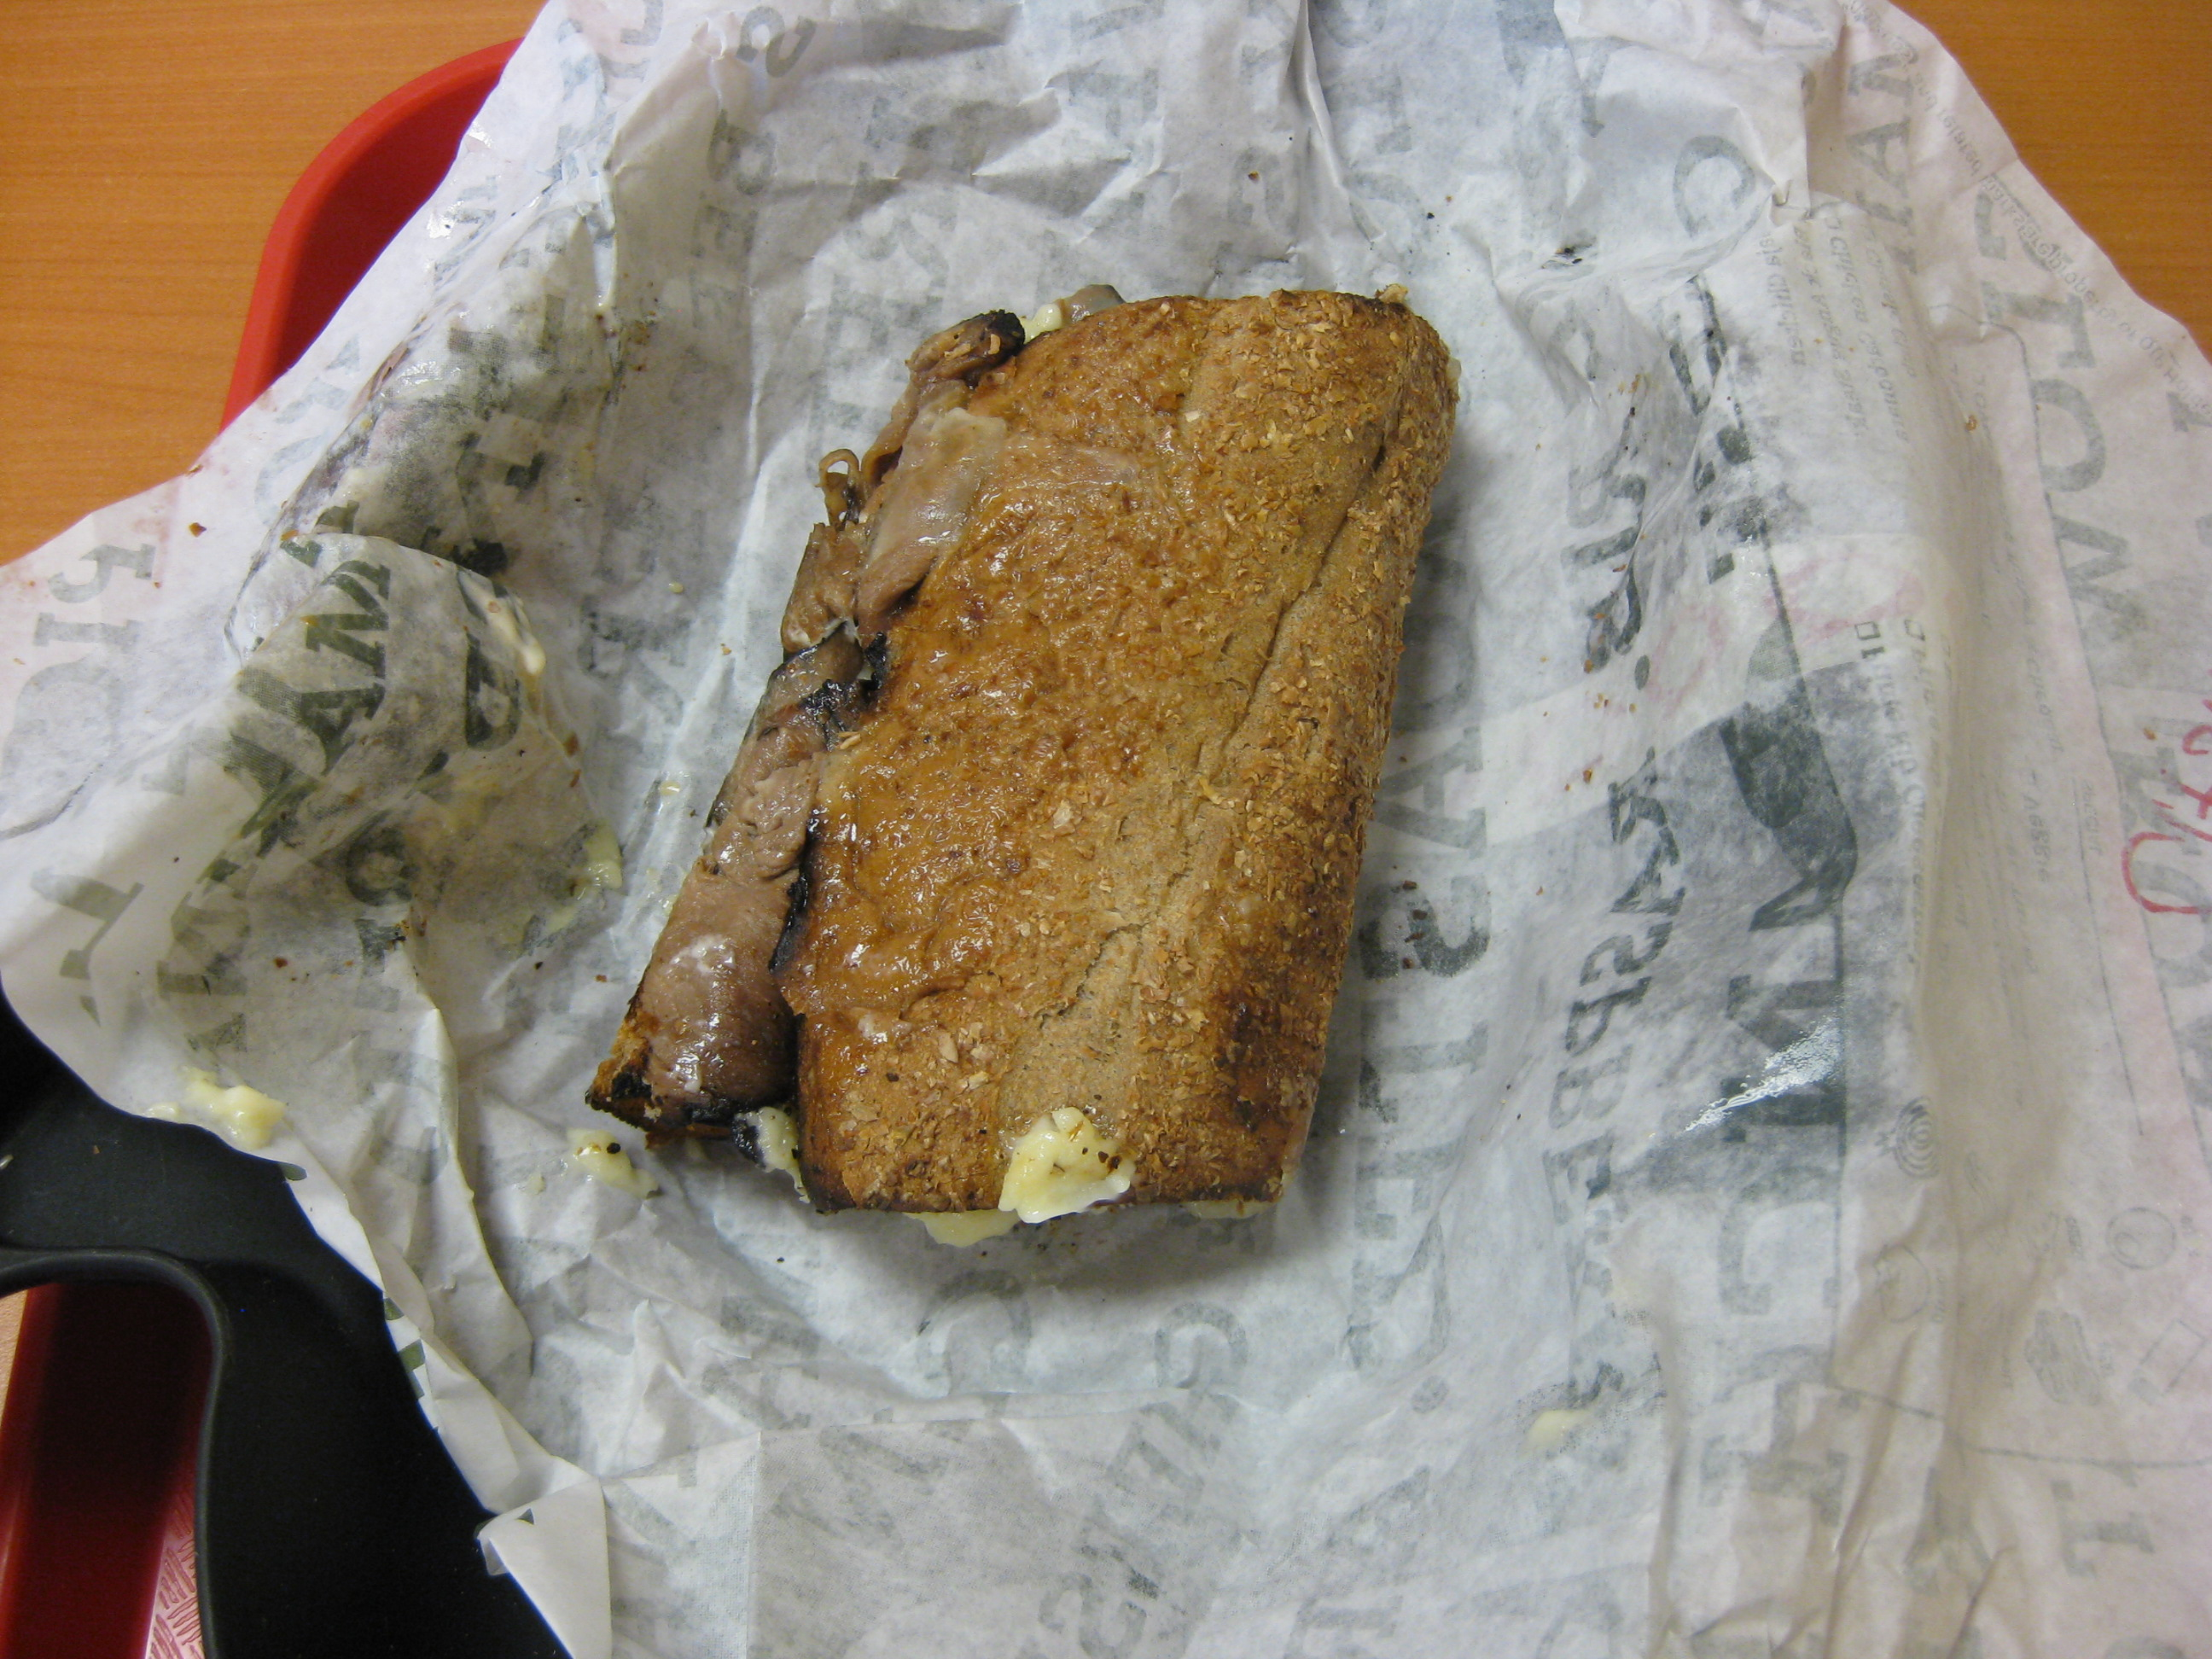sub: (687, 276, 1431, 1263)
